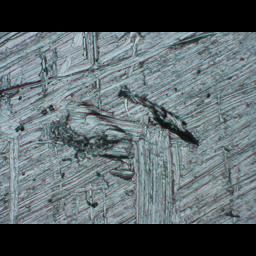d: (17, 82, 203, 185)
